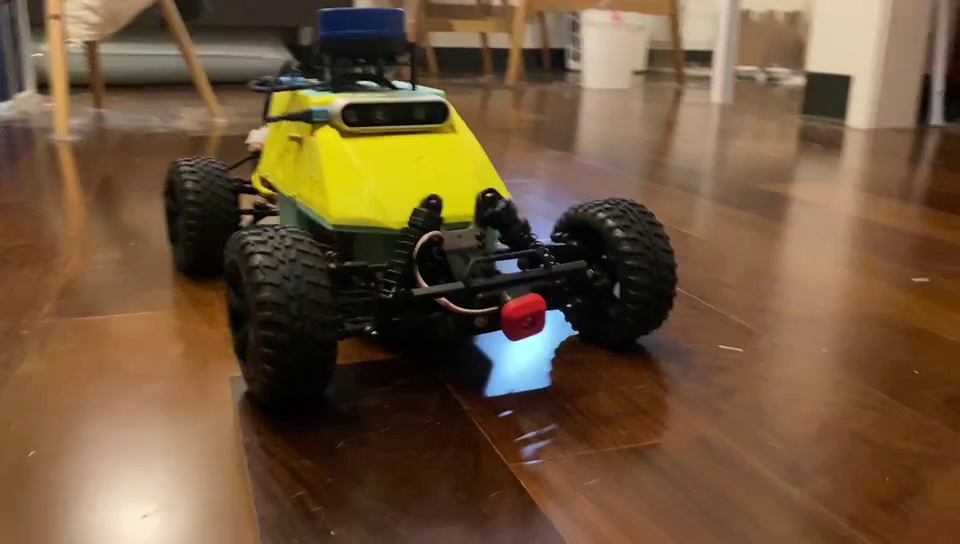mushr_car: (163, 7, 681, 408)
